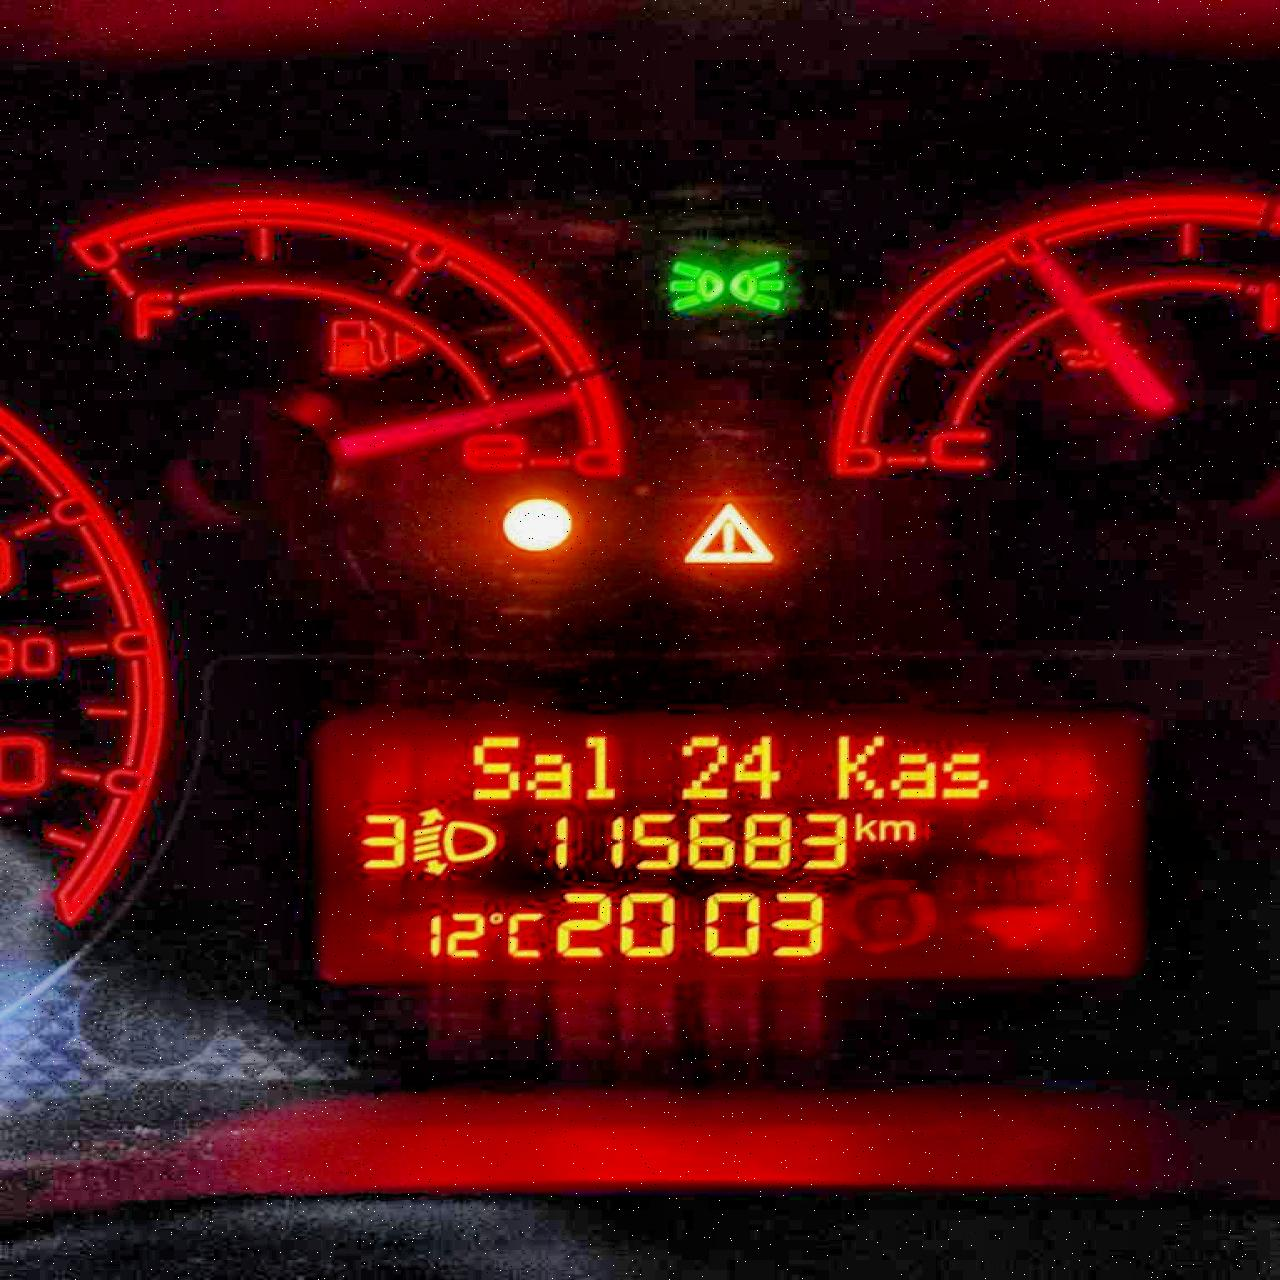0: (618, 892, 676, 958), (702, 892, 761, 956)
1: (550, 813, 570, 867), (607, 813, 625, 869), (425, 912, 441, 956)
2: (553, 892, 612, 958), (679, 734, 729, 799), (444, 910, 484, 956)
3: (770, 892, 824, 956), (801, 810, 849, 867), (359, 812, 406, 869)
4: (731, 735, 781, 799)
5: (629, 811, 680, 870)
6: (685, 811, 737, 869)
8: (740, 812, 792, 867)
X: (837, 734, 887, 799), (470, 735, 519, 799), (523, 751, 573, 799), (888, 751, 937, 799), (939, 753, 988, 798), (584, 734, 617, 799), (505, 910, 543, 959), (877, 817, 915, 843), (852, 811, 878, 840)
odometer: (313, 712, 1151, 985)
